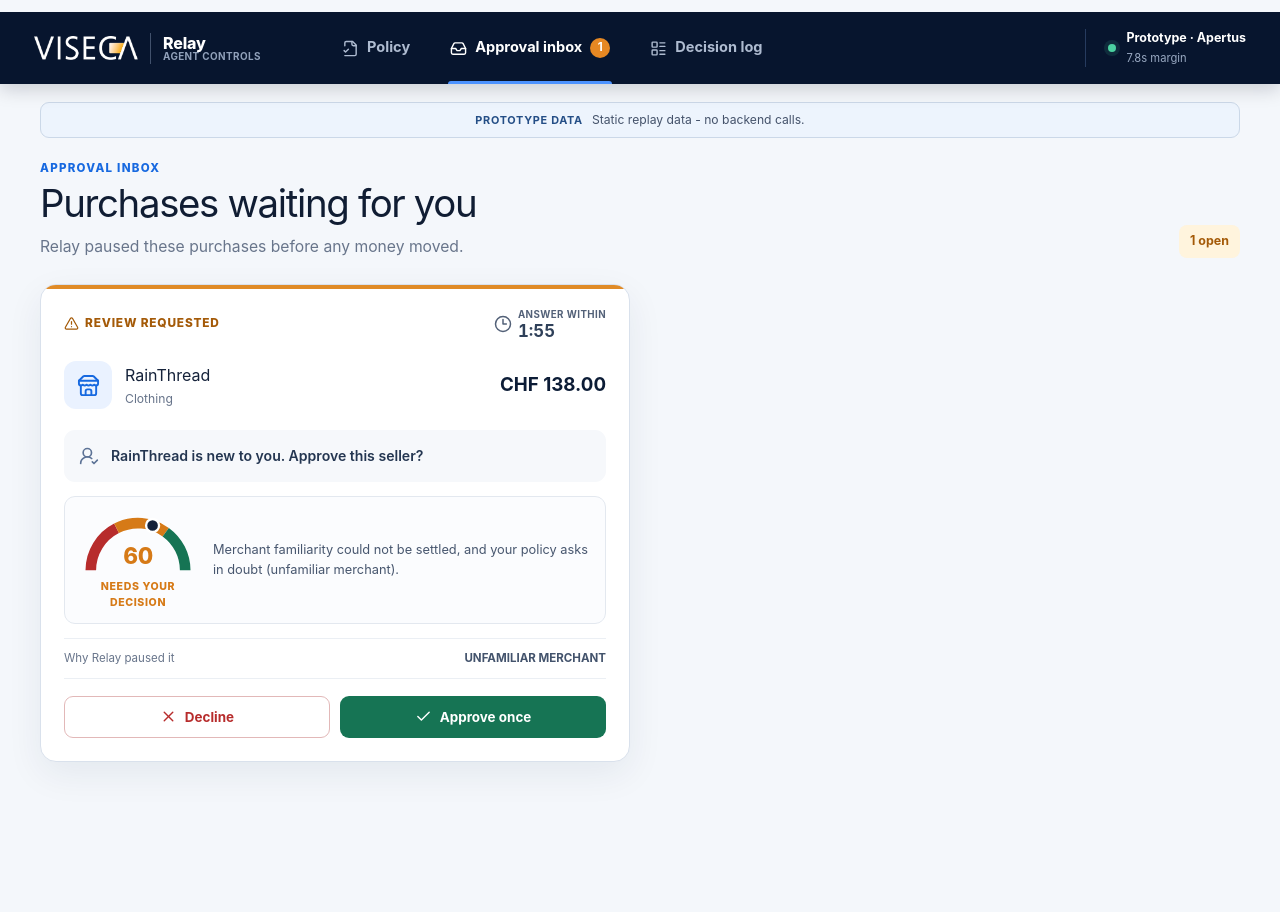
Test: Relay interface › resolves a pending purchase only once
The image size is (1280, 912).
Click the button "Approve once" at (473, 717), box [340, 696, 606, 738]
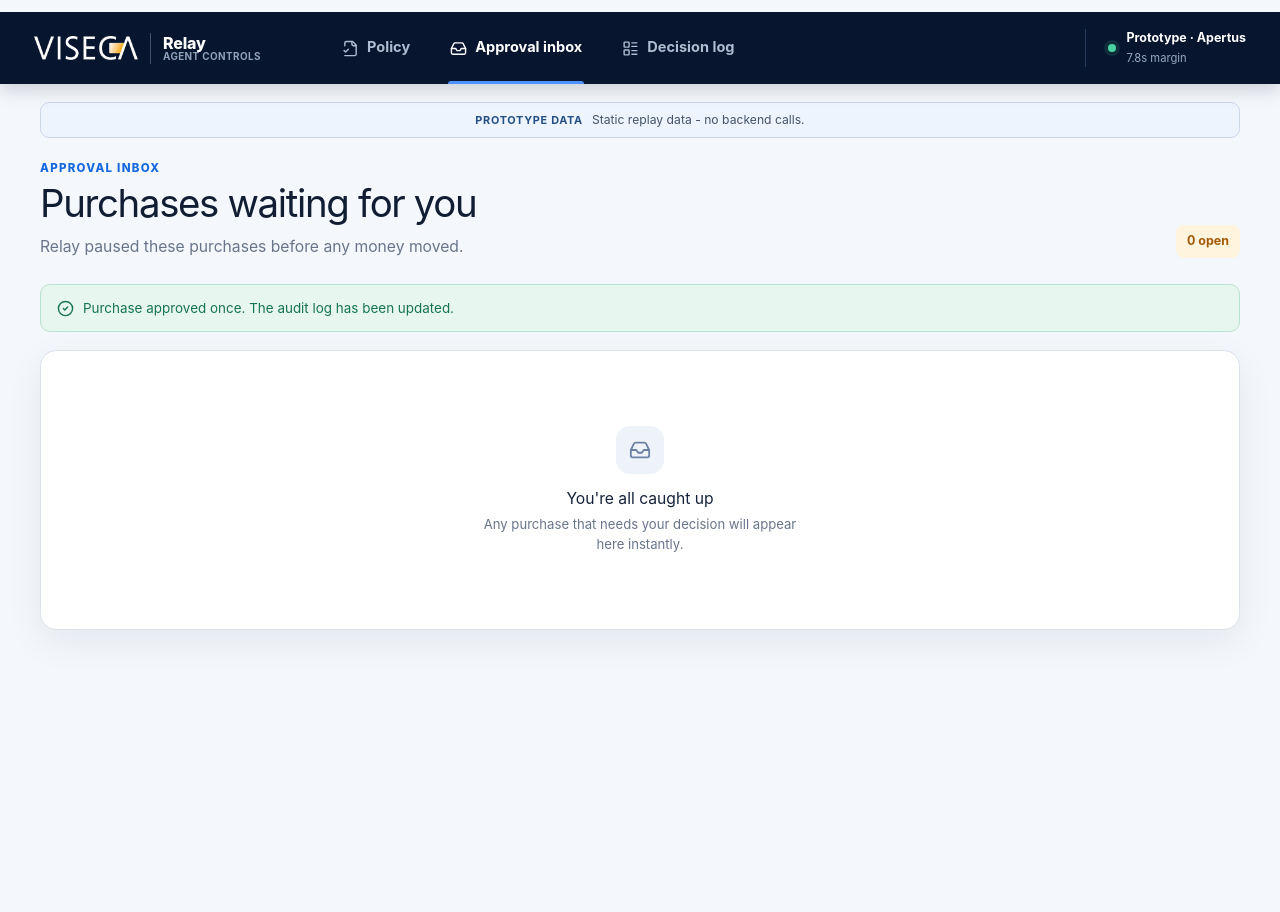
Expected: the text "Purchase approved once. The audit log has been updated." is shown, [40, 284, 1240, 332]
Expected: the heading "You're all caught up" is shown, [566, 487, 714, 510]
